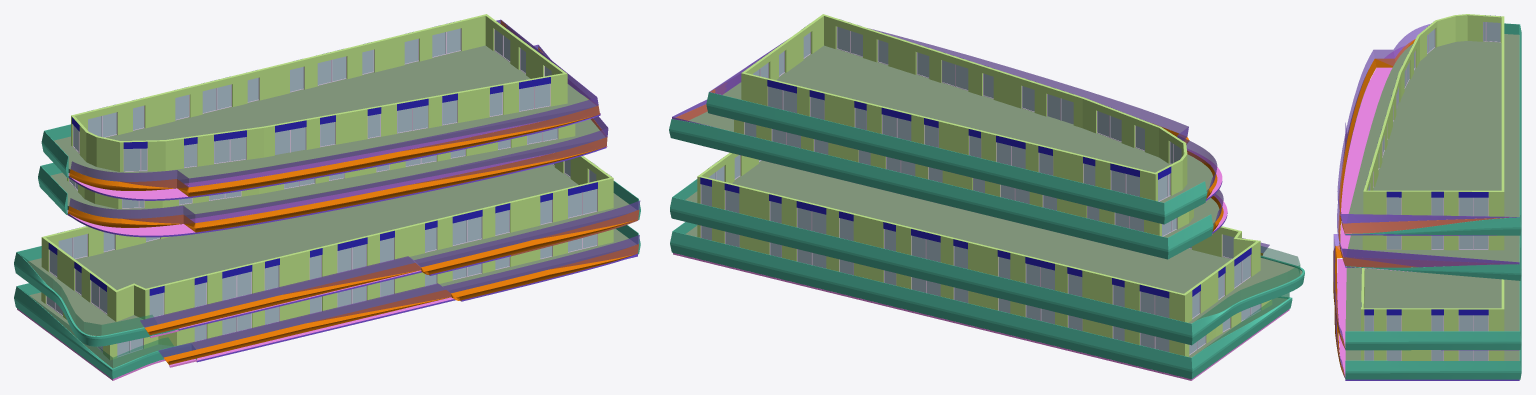
The model's file is GRC.glb.
The picture shows the model from 3 angles, left to right: view 1: azimuth 30°, elevation 25°; view 2: azimuth 150°, elevation 25°; view 3: azimuth 270°, elevation 25°; orthographic projection. The views are drawn at different scales.
Parts seen in each view (by area): view 1: Object.809, Object.609, Object.496, Object.751, Object.735, Object.727, Object.786, Object.743, Object.788, Object, Object.612, Object.733; view 2: Object.727, Object.609, Object.809, Object.496, Object.612, Object.751, Object, Object.733, Object.786; view 3: Object.809, Object.727, Object.609, Object.496, Object.751, Object.786, Object.743, Object.735, Object, Object.612, Object.788.
Boxes of the visible parts, x1,y1,x2,y2 form: Object.809: [27, 45, 636, 368]; Object.609: [41, 14, 613, 360]; Object.496: [47, 28, 596, 356]; Object.751: [69, 19, 640, 357]; Object.735: [68, 115, 636, 364]; Object.727: [14, 47, 640, 379]; Object.786: [17, 113, 606, 380]; Object.743: [120, 20, 639, 322]; Object.788: [67, 114, 638, 362]; Object: [46, 28, 597, 357]; Object.612: [48, 27, 611, 295]; Object.733: [21, 255, 173, 368]; Object.727: [669, 92, 1304, 379]; Object.609: [697, 14, 1272, 356]; Object.809: [685, 45, 1302, 357]; Object.496: [701, 27, 1260, 354]; Object.612: [700, 27, 1251, 298]; Object.751: [672, 28, 1269, 252]; Object: [700, 27, 1261, 355]; Object.733: [1195, 246, 1300, 351]; Object.786: [673, 146, 1289, 380]; Object.809: [1345, 34, 1519, 360]; Object.727: [1345, 23, 1521, 379]; Object.609: [1361, 14, 1504, 360]; Object.496: [1364, 22, 1500, 360]; Object.751: [1333, 24, 1519, 368]; Object.786: [1337, 46, 1411, 376]; Object.743: [1335, 39, 1508, 377]; Object.735: [1333, 39, 1415, 374]; Object: [1364, 22, 1500, 360]; Object.612: [1361, 15, 1500, 315]; Object.788: [1337, 212, 1519, 380].
Bounding box in the file's own units: 52.54 × 17.44 × 18.16.
